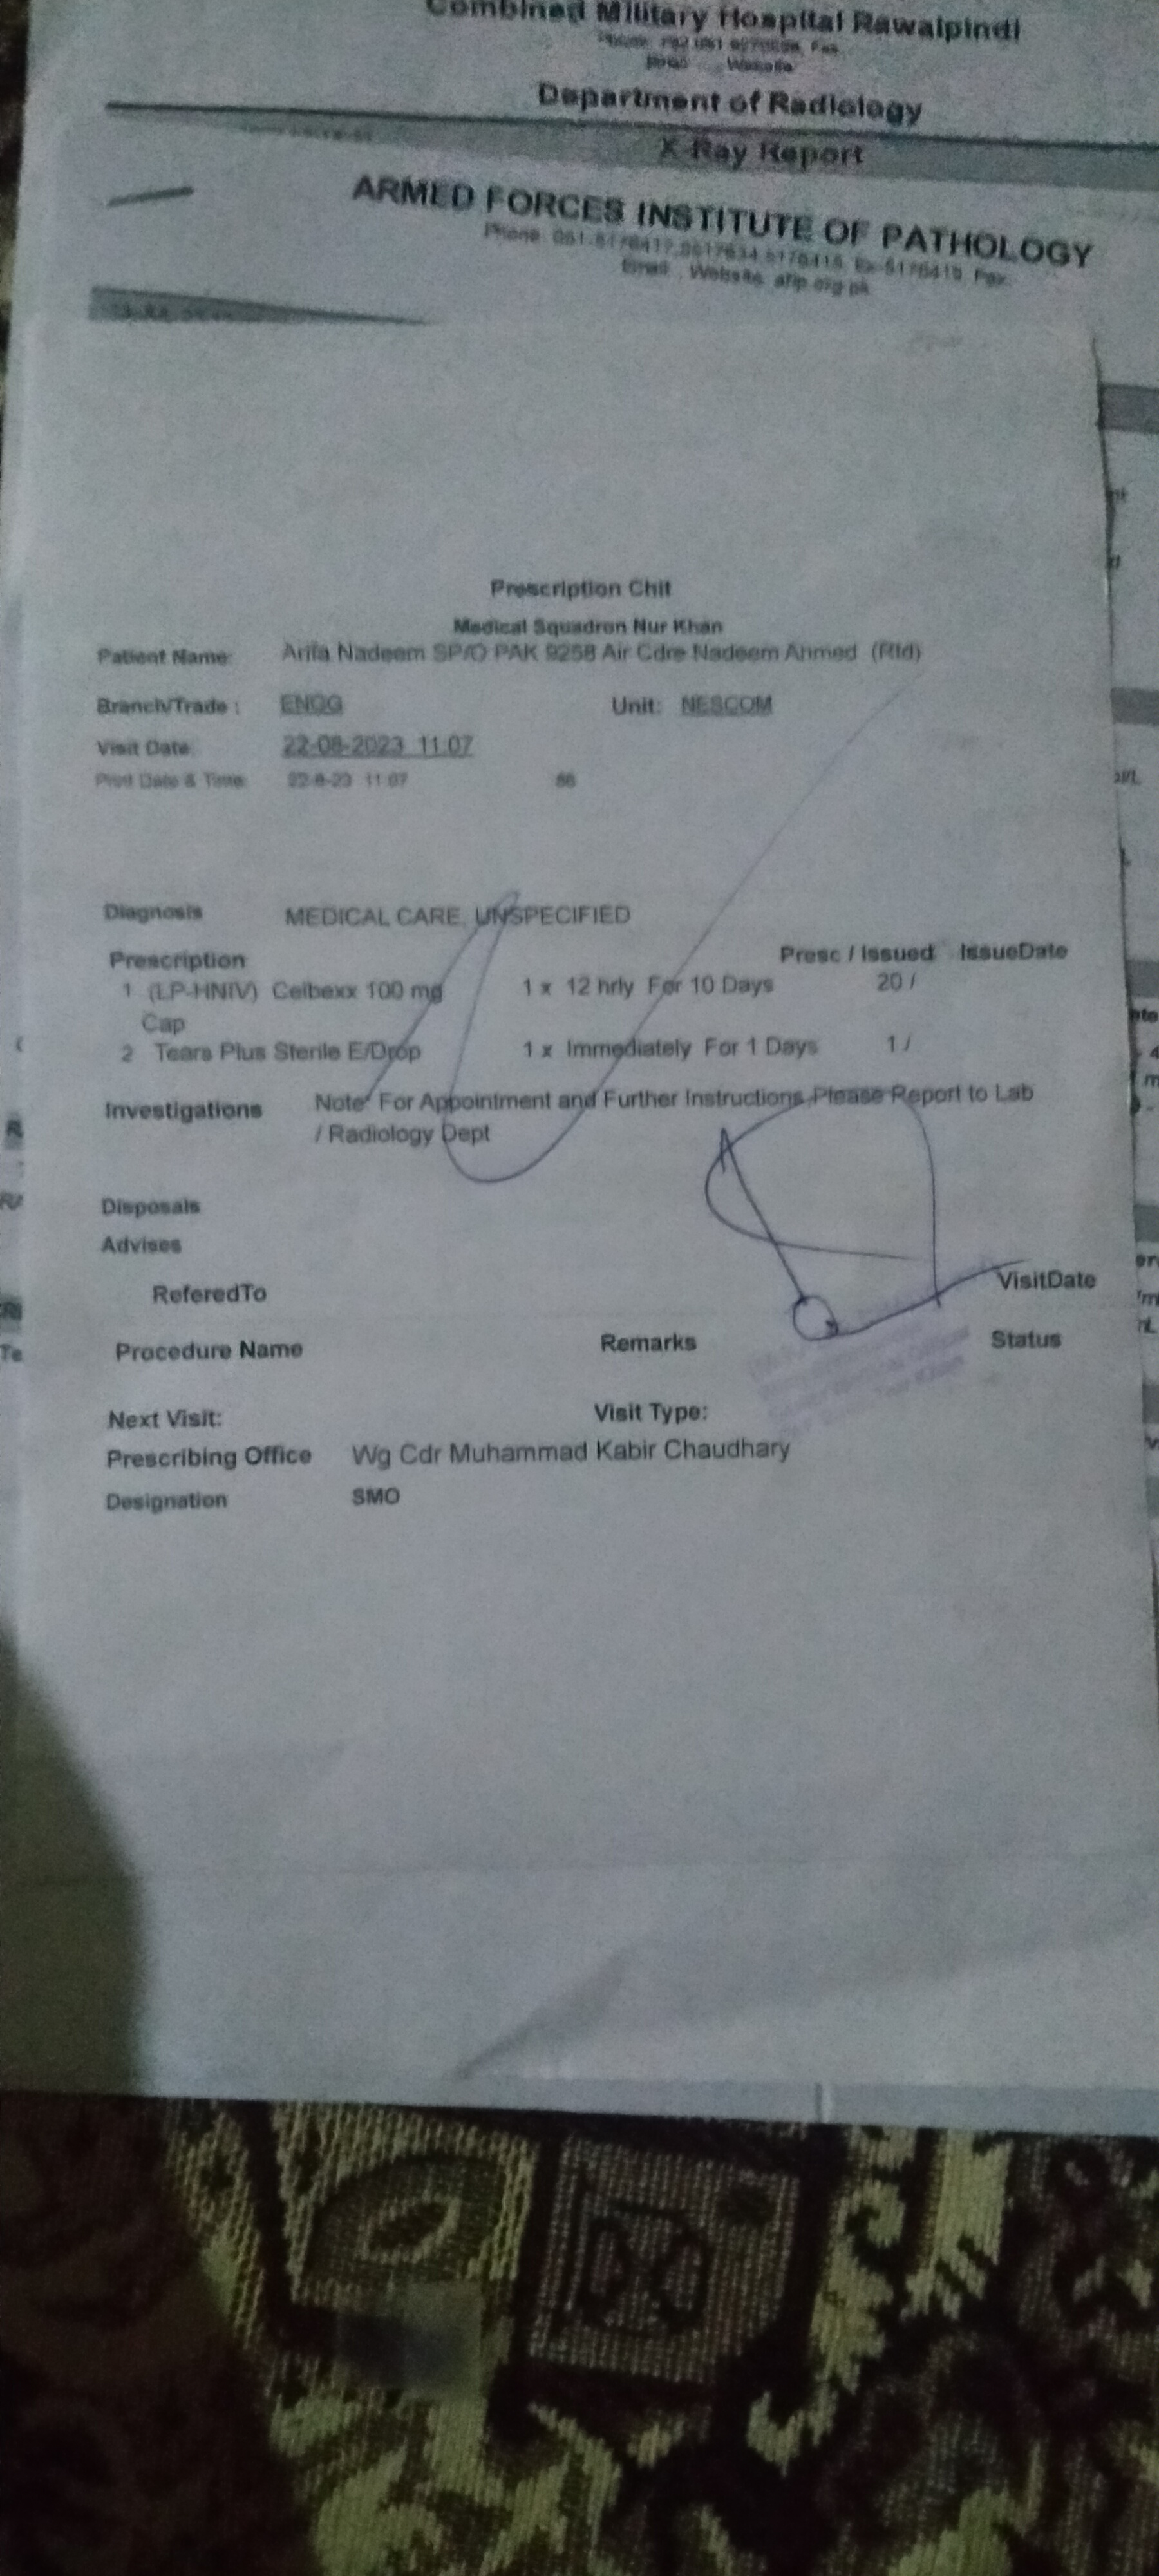report: (80, 889, 1097, 1147)
